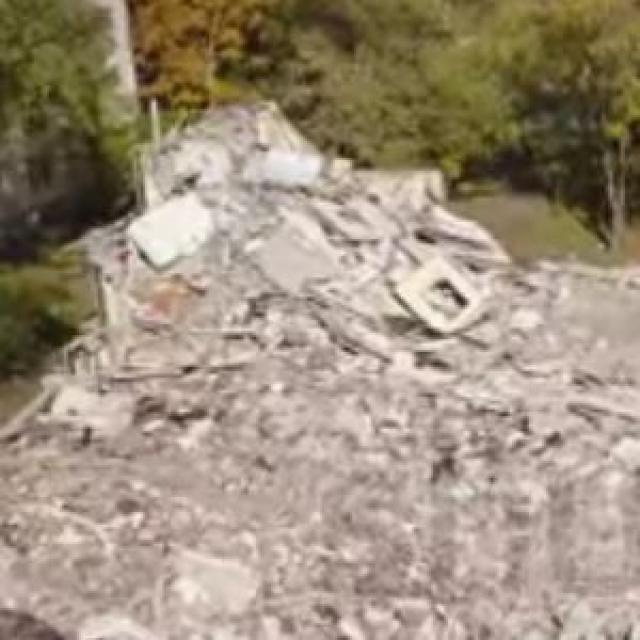collapsed_building: (64, 109, 638, 629)
